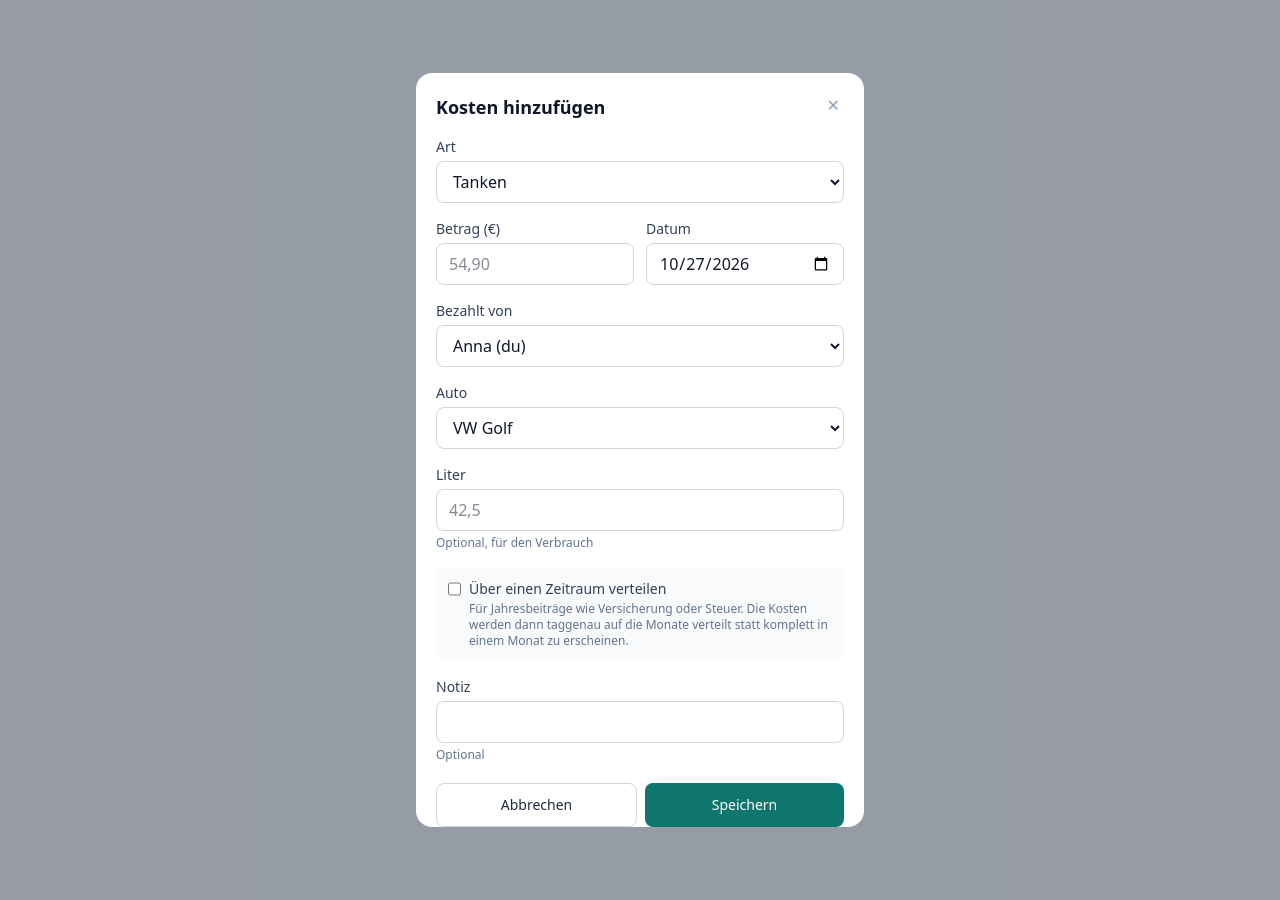
Test: adding a cost › suggests spreading when a yearly category is picked
Expected: the checkbox labelled "Über einen Zeitraum" is not checked, top-left (448, 581), bottom-right (461, 597)
Select "KFZ-Steuer" in the dropdown labelled "Art": x=640, y=182 top-left (436, 161), bottom-right (844, 203)
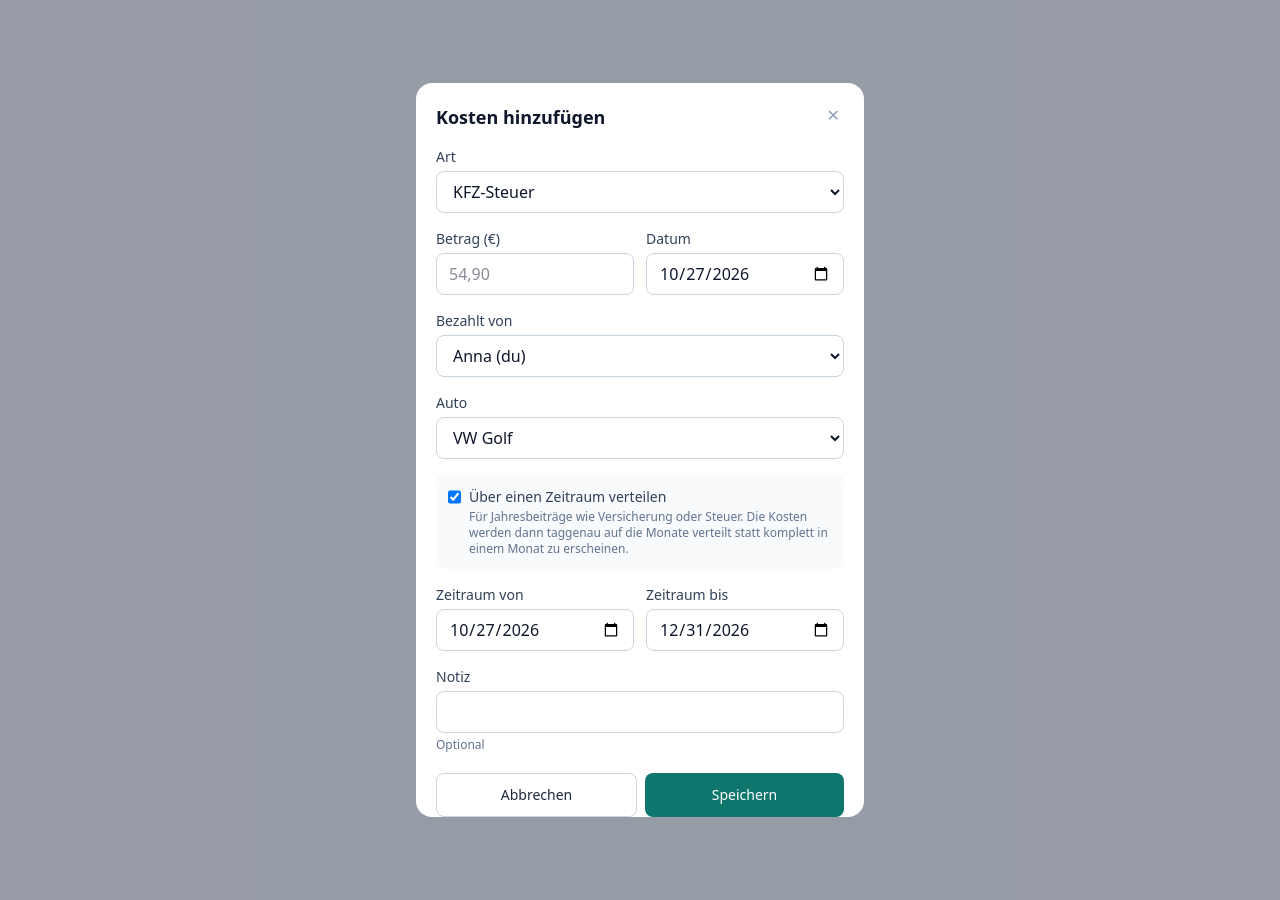
Now the checkbox labelled "Über einen Zeitraum" is checked, box top-left (448, 489), bottom-right (461, 505)
